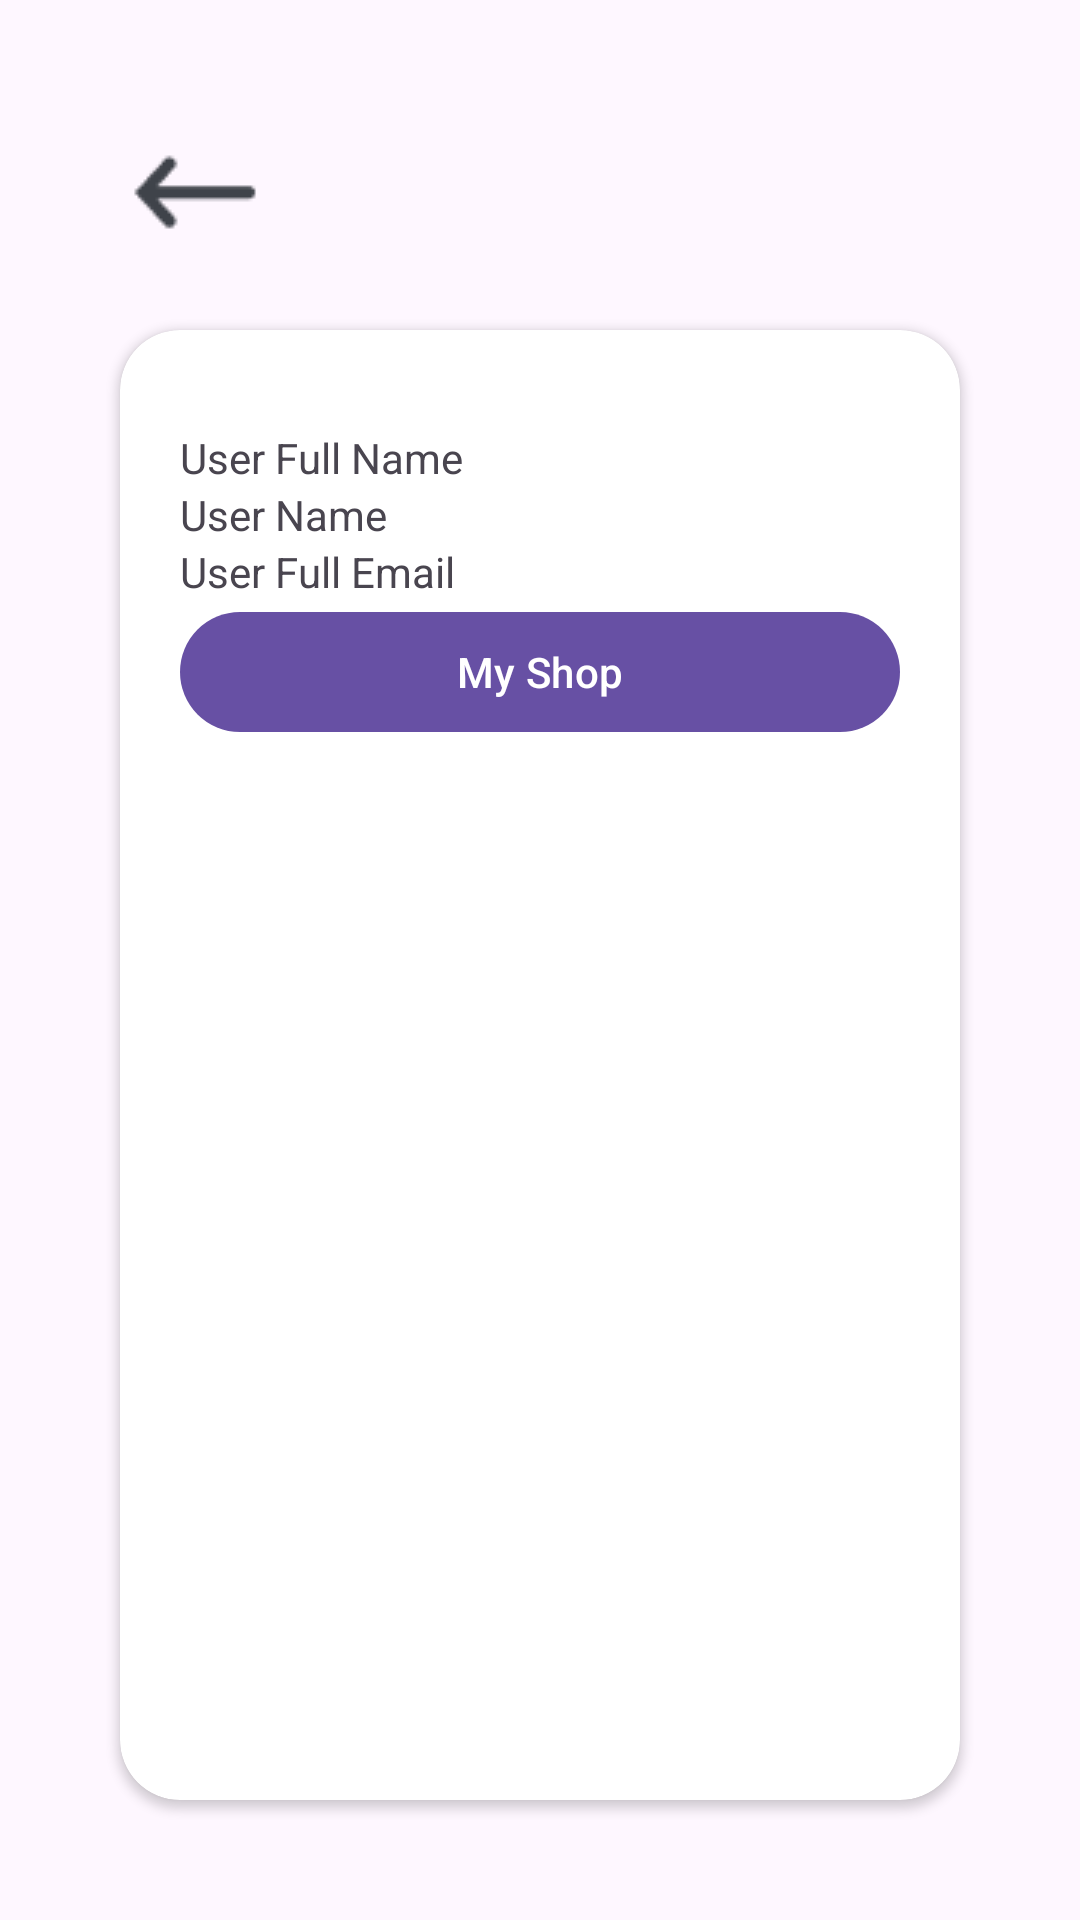

Icons on this 1080px x 1920px Android screen, each with its box as (x1=x1, y1=y1, x2=x2, y2=y2):
arrow left: (x1=134, y1=155, x2=256, y2=229)
